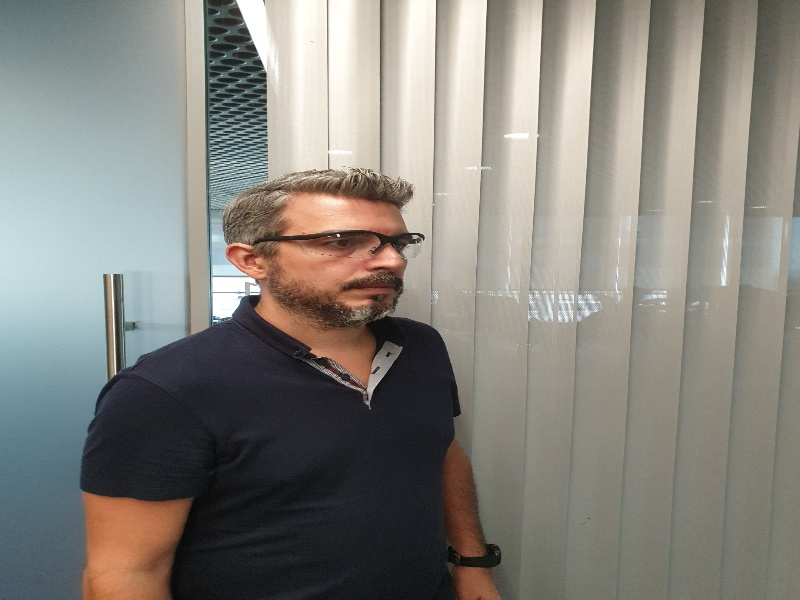Gozluk: (256, 229, 426, 259)
